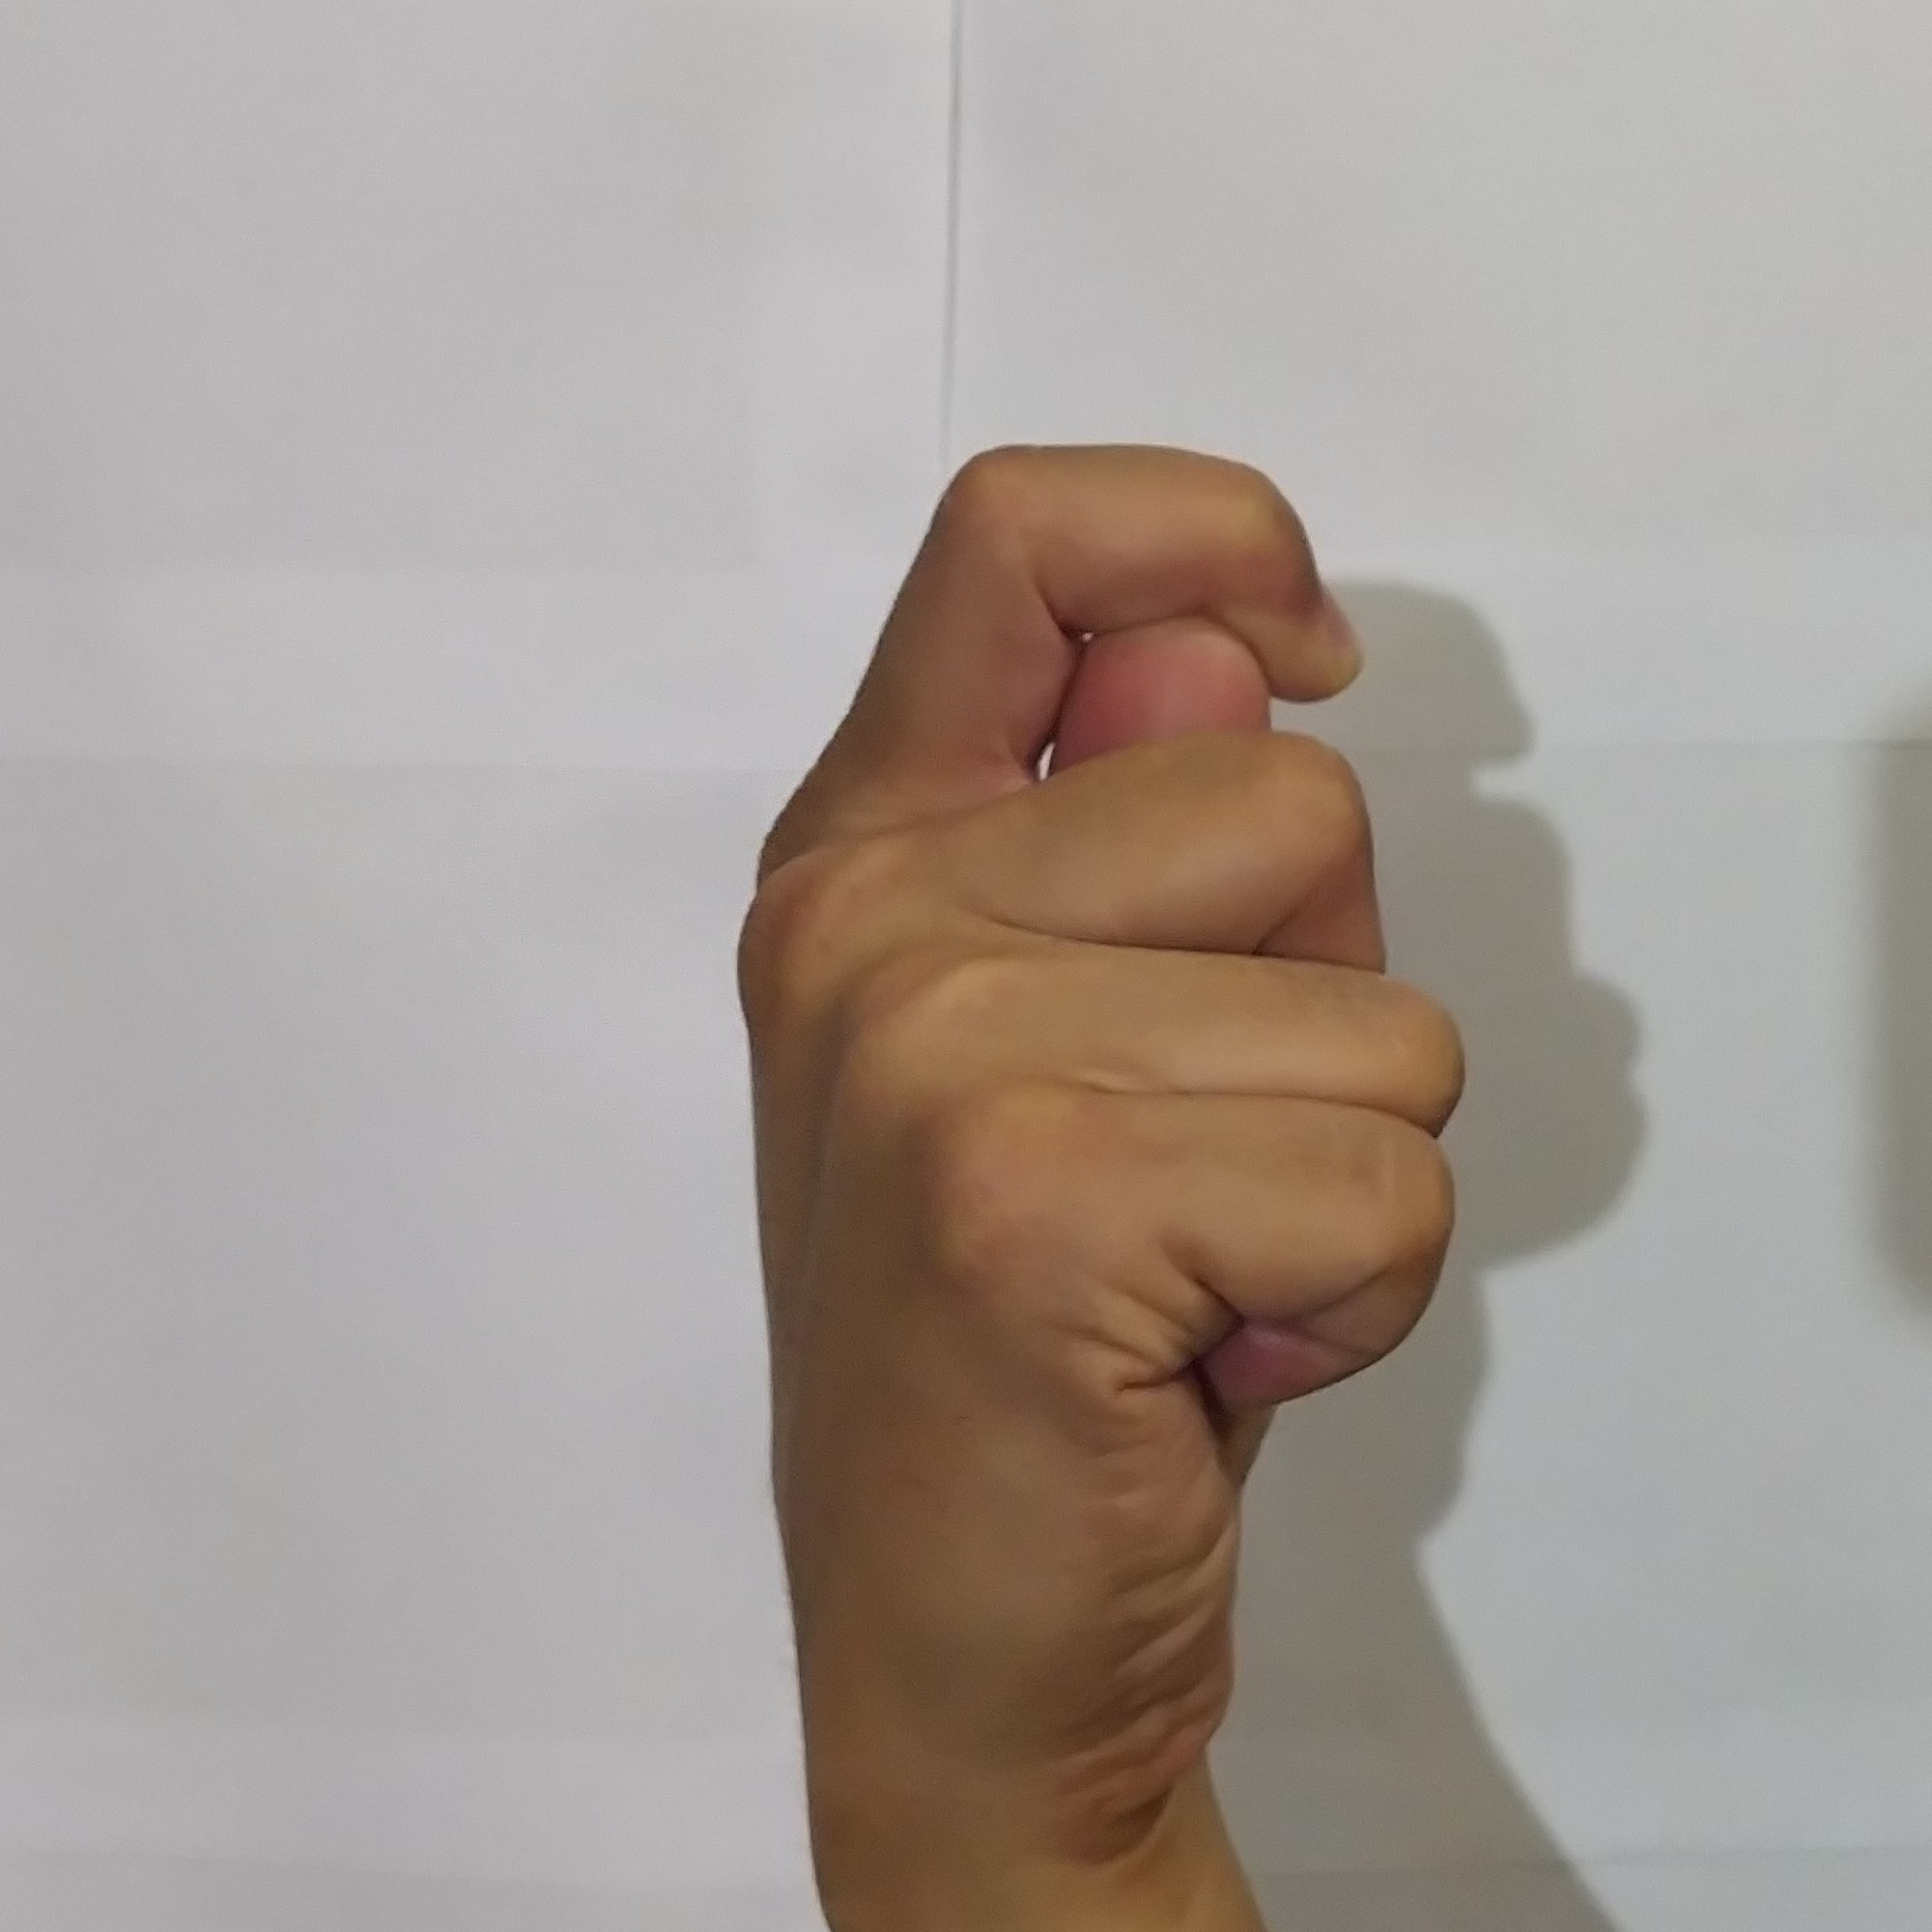T: (699, 403, 1490, 1824)
